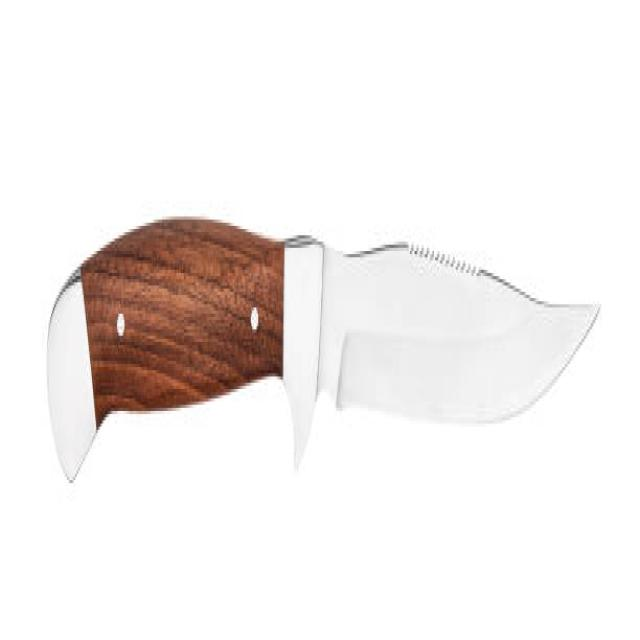knife: (48, 202, 602, 517)
